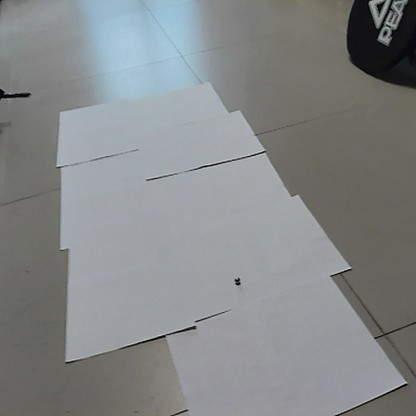ironball: (230, 274, 241, 286)
